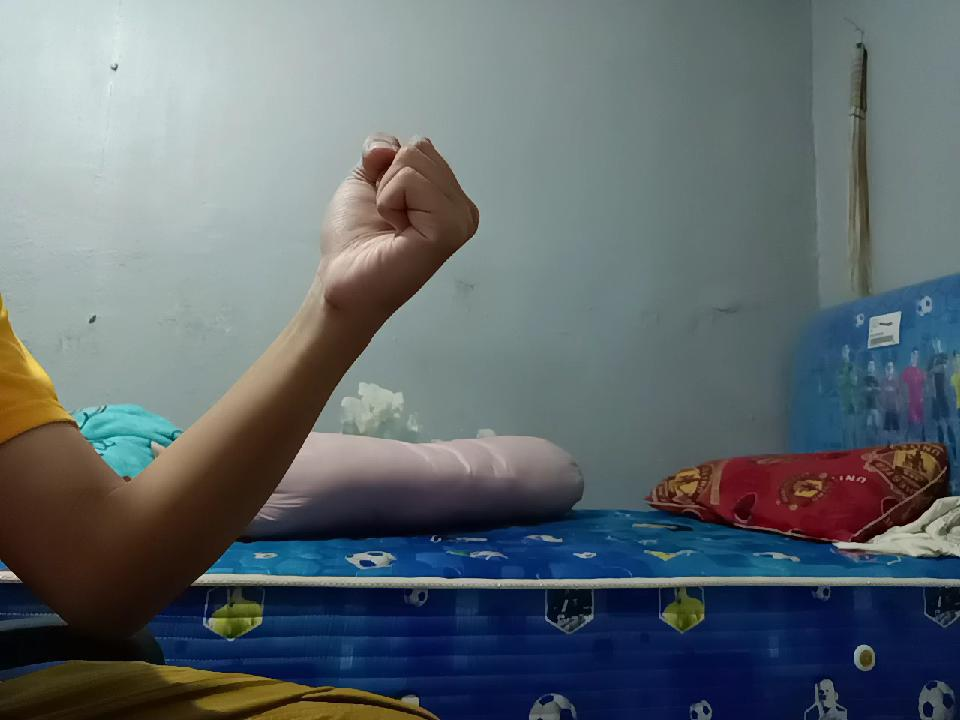rock: (316, 116, 478, 314)
